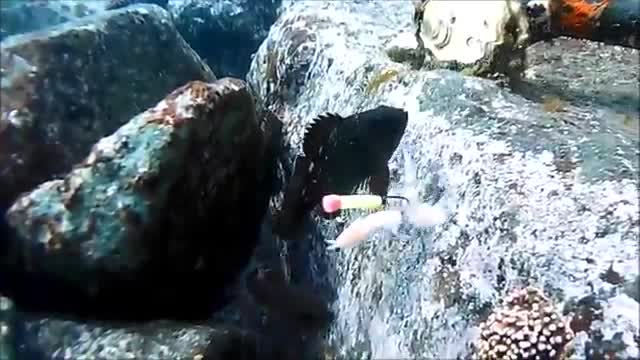mebaru: (274, 83, 418, 244)
